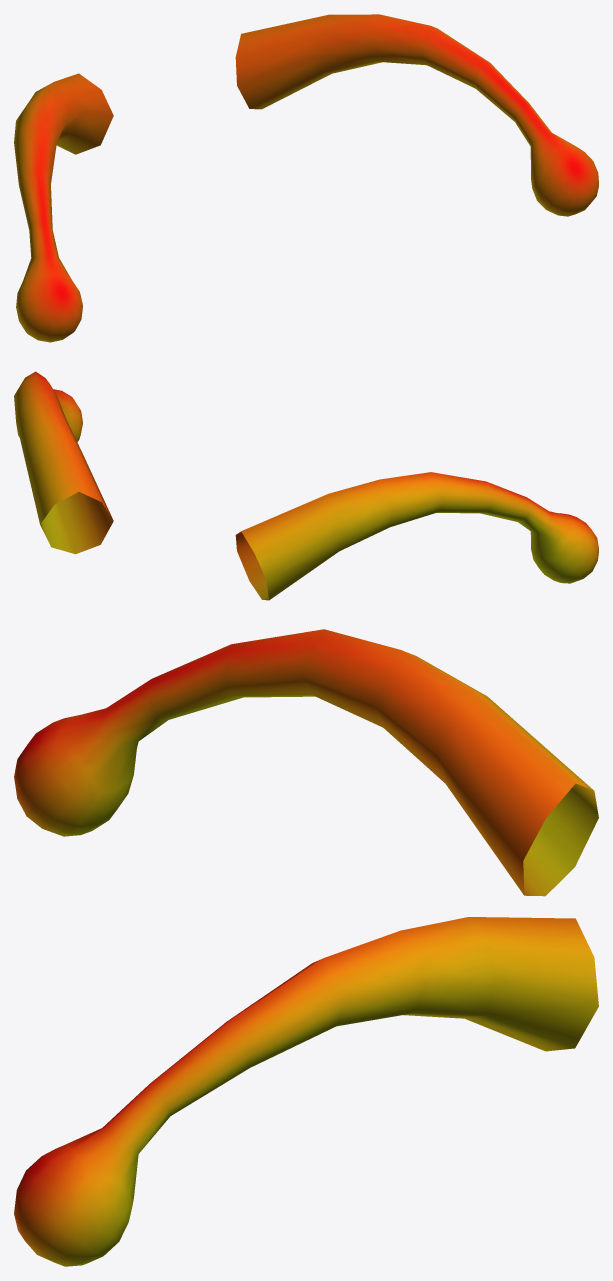
File: BSMC_Outfit_Head_AlienAttena.obj
3 views of the same model, one above another, from view 1: azimuth 30°, elevation 25°; view 2: azimuth 150°, elevation 25°; view 3: azimuth 270°, elevation 25° (orthographic). The views are drawn at different scales.
Parts seen in each view (by area): view 1: BSMC_Outfit_Head_AlienAttena_0; view 2: BSMC_Outfit_Head_AlienAttena_0; view 3: BSMC_Outfit_Head_AlienAttena_0.
Part boxes in pixels (x1,y1,x2,y2): BSMC_Outfit_Head_AlienAttena_0: (14, 14, 598, 342); BSMC_Outfit_Head_AlienAttena_0: (14, 371, 598, 600); BSMC_Outfit_Head_AlienAttena_0: (14, 629, 598, 1266).
Size of the model in its own units: 0.2212 by 0.0555 by 0.1143.
Materials: 1 (1 with a texture image).
